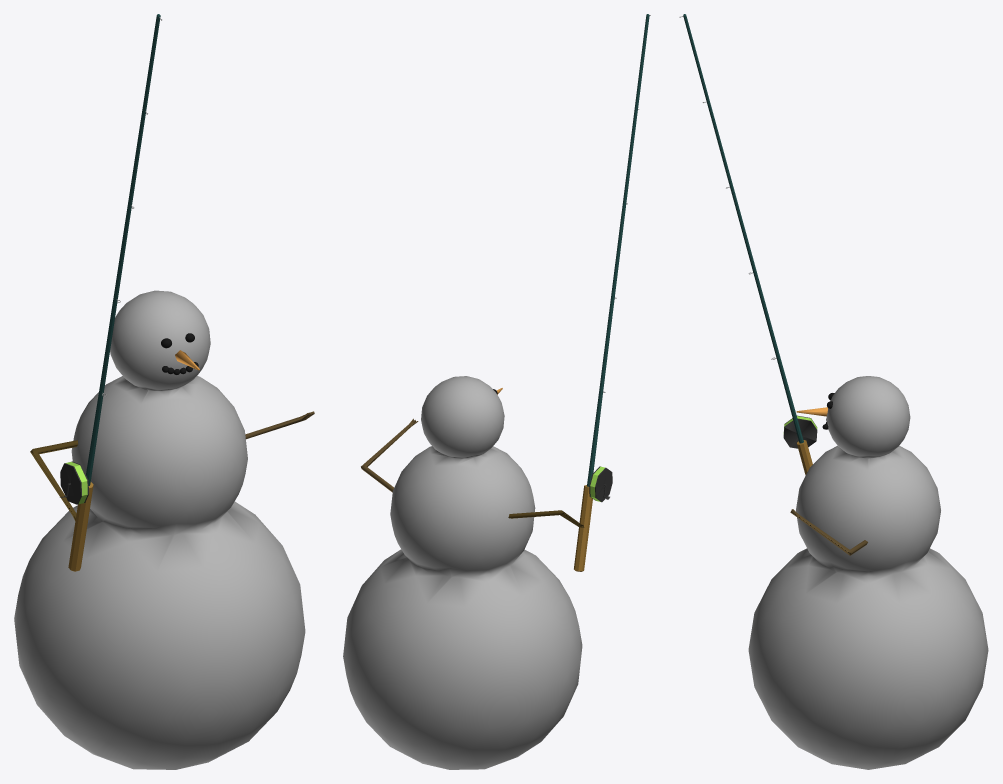
The model's file is fisherman.glb.
3 renders of one model, left to right at view 1: azimuth 30°, elevation 25°; view 2: azimuth 150°, elevation 25°; view 3: azimuth 270°, elevation 25°, orthographic. The views are drawn at different scales.
Visible parts, largest first — view 1: snowman, arm_right, face; view 2: snowman, arm_right, arm_left; view 3: snowman, arm_right.
Boxes of the visible parts, x1,y1,x2,y2 form: snowman: (14,290,305,769); arm_right: (30,14,161,571); face: (161,333,199,374); snowman: (343,376,582,769); arm_right: (508,14,650,571); arm_left: (361,418,418,492); snowman: (748,376,988,769); arm_right: (679,14,817,475).
Bounding box in the file's own units: 2.15 × 6.43 × 2.57.
